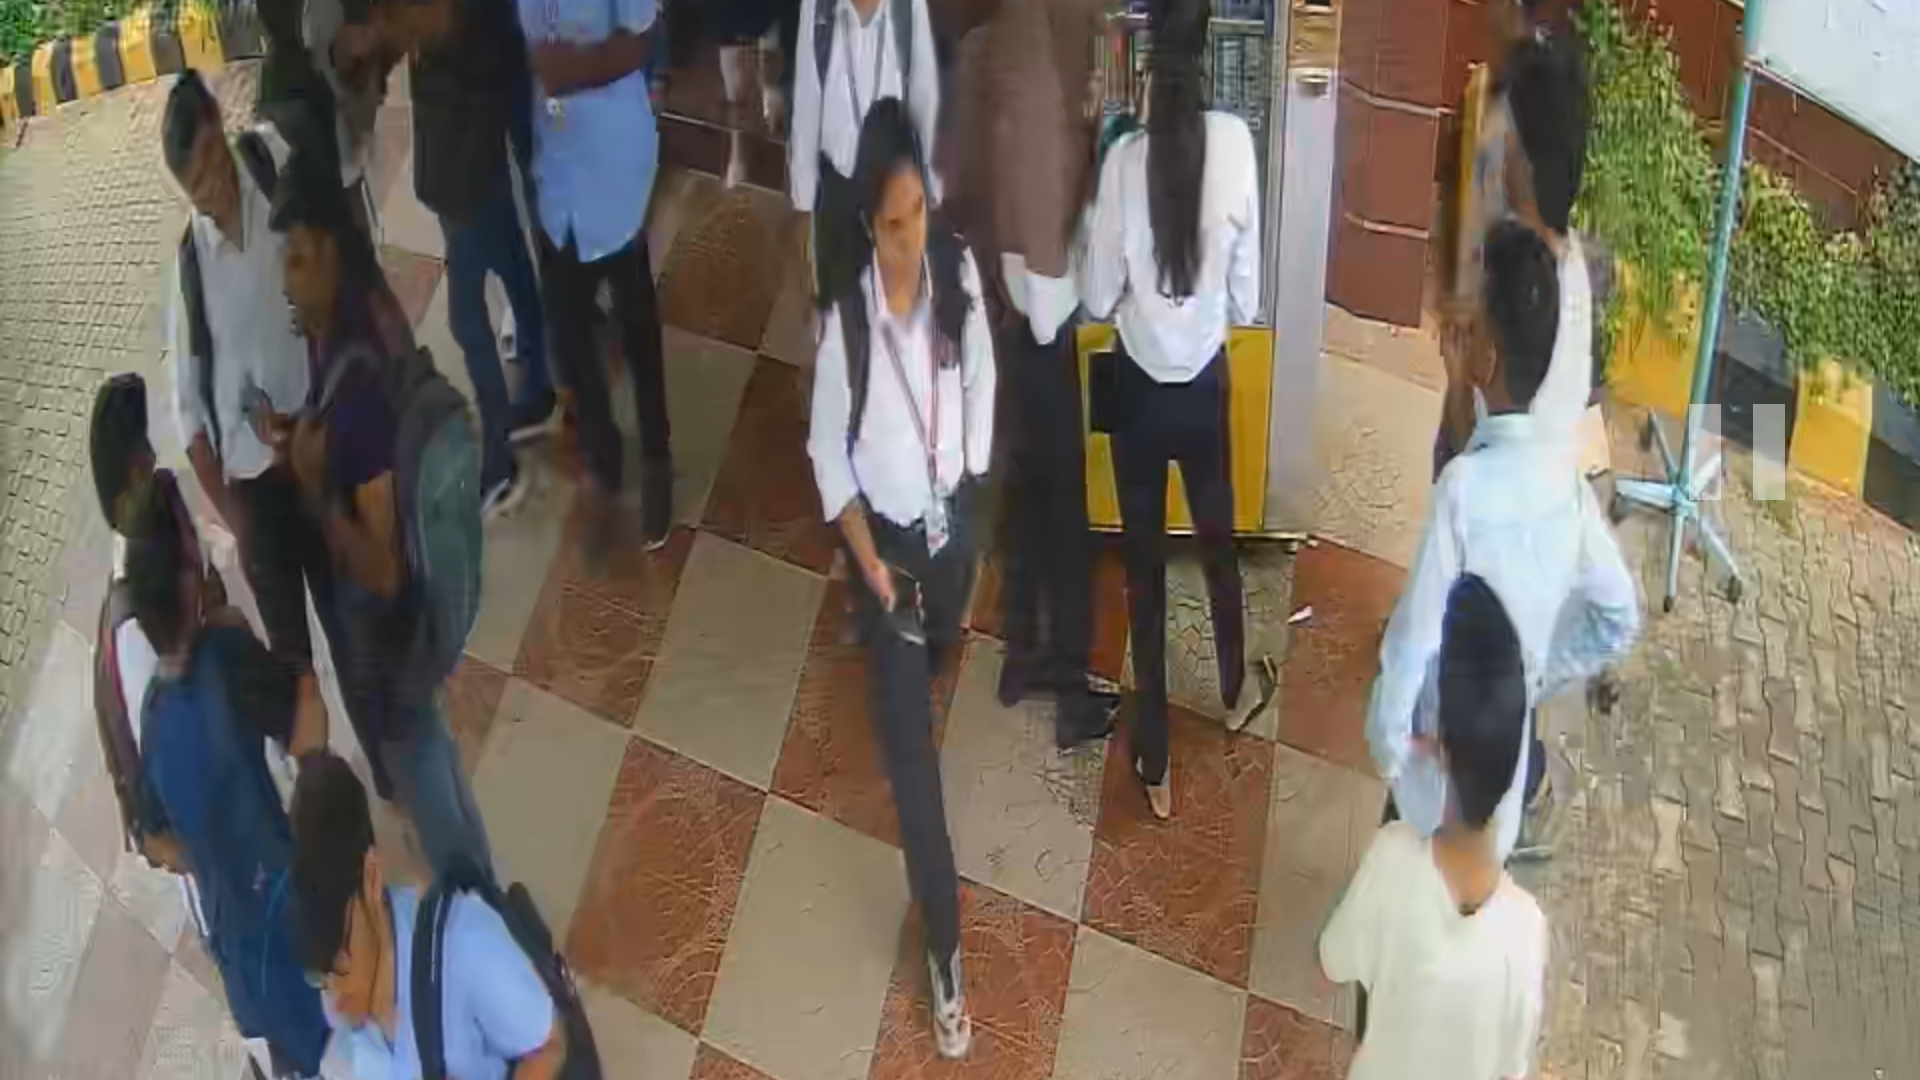not intruder: (822, 104, 1009, 1059)
